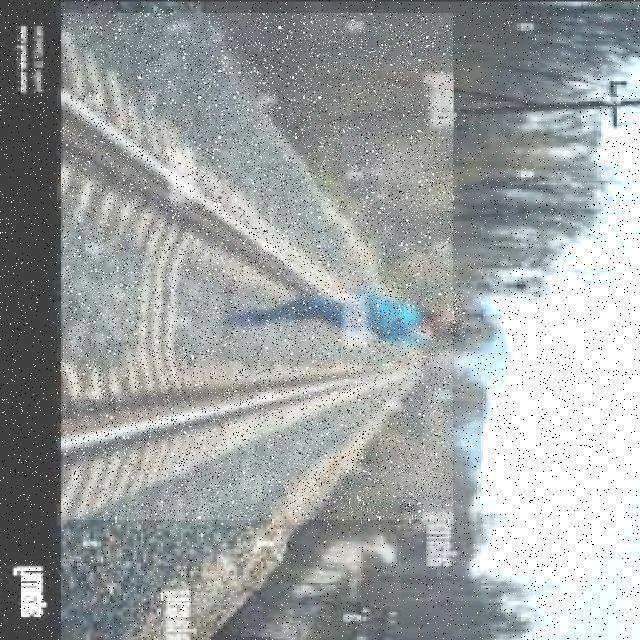rail: (64, 15, 454, 521)
